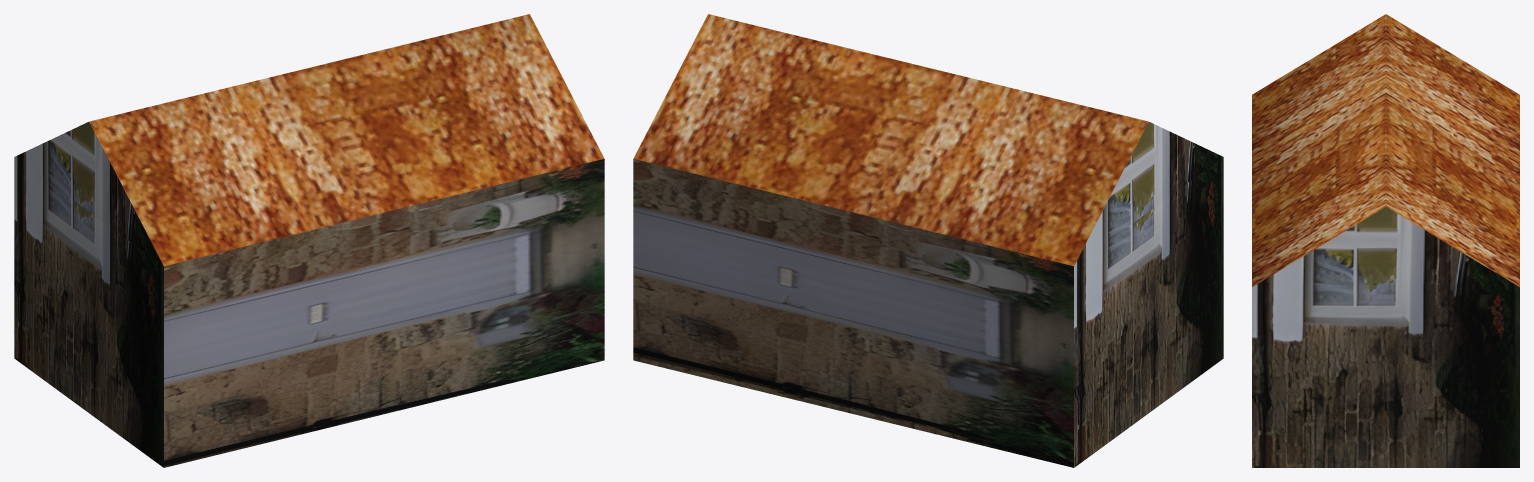
The model's file is cottage3.gltf.
3 views of the same model, side by side, from view 1: azimuth 30°, elevation 25°; view 2: azimuth 150°, elevation 25°; view 3: azimuth 270°, elevation 25° (orthographic). The views are drawn at different scales.
Parts seen in each view (by area): view 1: cottage3_atomic0; view 2: cottage3_atomic0; view 3: cottage3_atomic0.
Boxes of the visible parts, x1,y1,x2,y2 form: cottage3_atomic0: [14, 14, 604, 467]; cottage3_atomic0: [633, 14, 1223, 467]; cottage3_atomic0: [1252, 14, 1519, 467].
Size of the model in its own units: 23.55 by 14.9 by 13.84.
3 materials, 3 textured.
